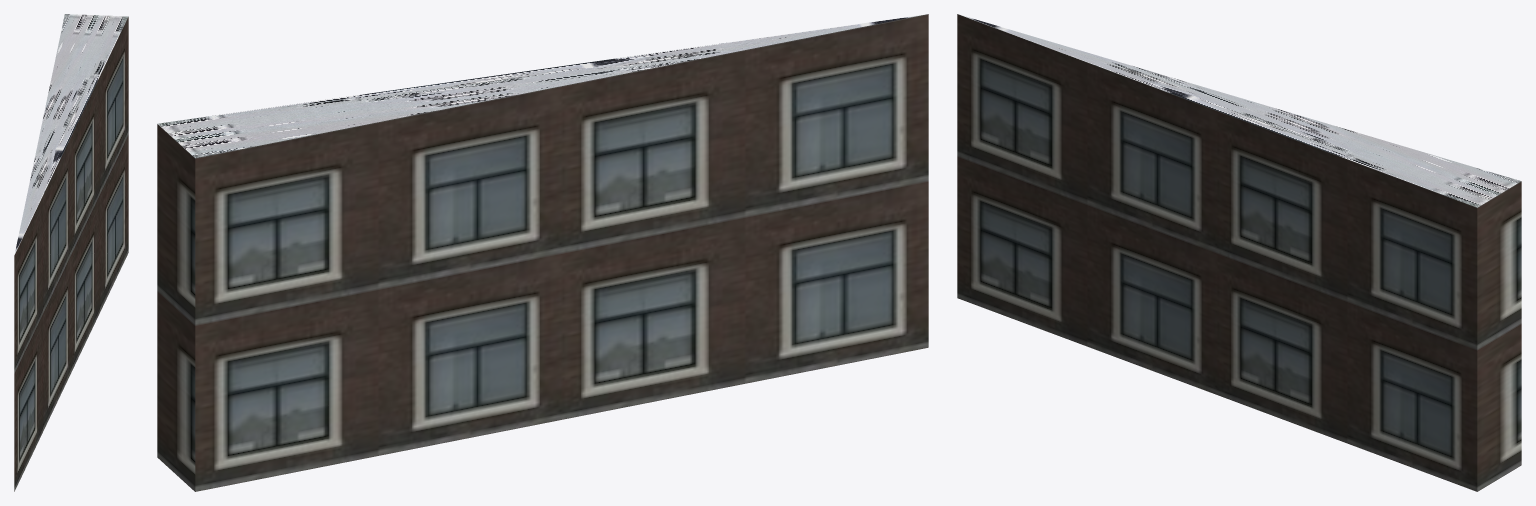
The model's file is ResTex__3826.fbx.
3 renders of one model, left to right at view 1: azimuth 30°, elevation 25°; view 2: azimuth 150°, elevation 25°; view 3: azimuth 270°, elevation 25°, orthographic. The views are drawn at different scales.
Visible parts, largest first — view 1: CityEngineMaterial_16_m, CityEngineMaterial_15_m; view 2: CityEngineMaterial_16_m, CityEngineMaterial_15_m; view 3: CityEngineMaterial_16_m, CityEngineMaterial_15_m.
Boxes of the visible parts, x1,y1,x2,y2 form: CityEngineMaterial_16_m: (14, 17, 128, 491); CityEngineMaterial_15_m: (14, 14, 128, 254); CityEngineMaterial_16_m: (157, 14, 928, 491); CityEngineMaterial_15_m: (157, 14, 925, 158); CityEngineMaterial_16_m: (957, 14, 1521, 491); CityEngineMaterial_15_m: (961, 15, 1520, 207).
Size of the model in its own units: 8.77 by 6 by 10.8.
2 materials, 2 textured.
